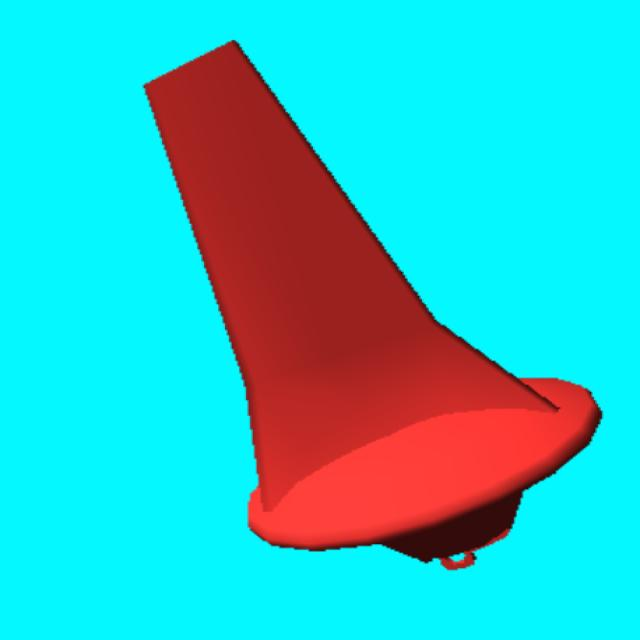RedBuoy: (145, 42, 599, 563)
